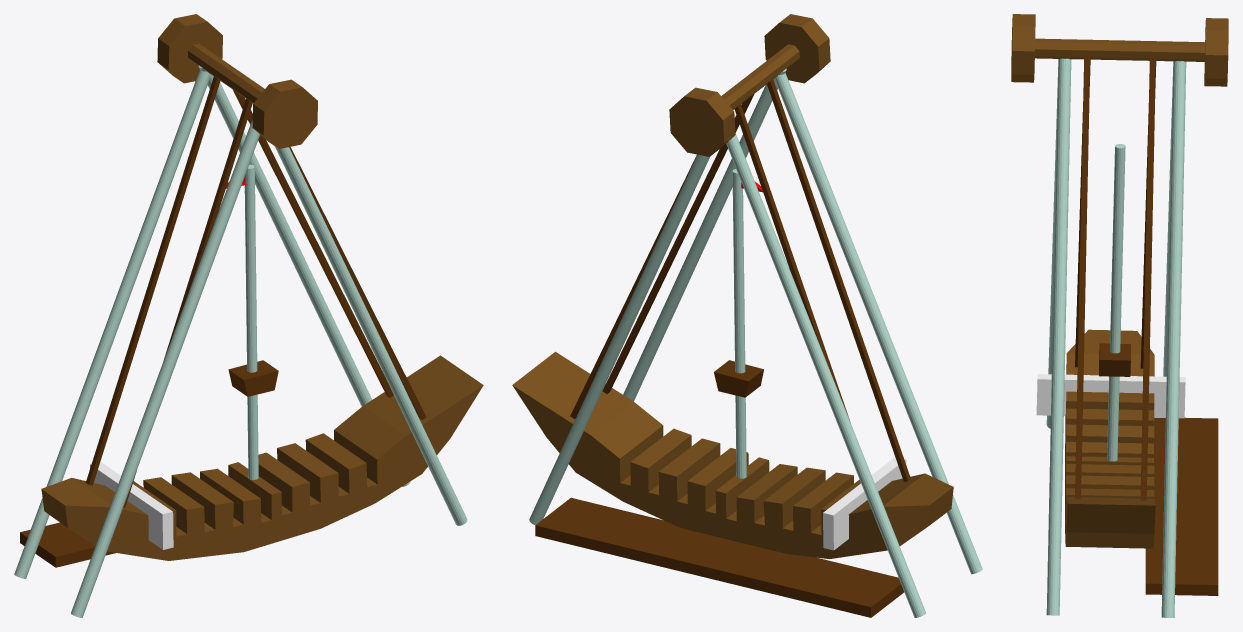
File: pirate_ship.glb
3 views of the same model, side by side, from view 1: azimuth 30°, elevation 25°; view 2: azimuth 150°, elevation 25°; view 3: azimuth 270°, elevation 25° (orthographic).
Parts seen in each view (by area): view 1: Boat_13, Bolt_15, Legs_2_4, Legs_1_2, Legs_4_5, LadderOpposite_9, Legs_3_3, Ladder_8, Flagpole_14, Seat_Divider_10, LoadStation_6, Post_11; view 2: Boat_13, LoadStation_6, Bolt_15, Legs_1_2, Legs_2_4, LadderOpposite_9, Legs_3_3, Legs_4_5, Ladder_8, Flagpole_14, Seat_Divider_10, Post_11; view 3: Boat_13, LoadStation_6, Legs_4_5, Legs_3_3, Bolt_15, Ladder_8, Flagpole_14, Seat_Divider_10, LadderOpposite_9, Post_11, Legs_2_4, Legs_1_2.
Part boxes in pixels (<box>): Boat_13: <box>41,355,483,560</box>; Bolt_15: <box>157,14,317,148</box>; Legs_2_4: <box>71,119,259,617</box>; Legs_1_2: <box>14,70,209,578</box>; Legs_4_5: <box>275,146,467,525</box>; LadderOpposite_9: <box>85,76,252,507</box>; Legs_3_3: <box>198,65,410,486</box>; Ladder_8: <box>233,90,426,419</box>; Flagpole_14: <box>244,164,258,479</box>; Seat_Divider_10: <box>90,462,173,549</box>; LoadStation_6: <box>20,522,115,567</box>; Post_11: <box>228,360,278,396</box>; Boat_13: <box>512,351,953,559</box>; LoadStation_6: <box>535,497,903,617</box>; Bolt_15: <box>669,14,830,156</box>; Legs_1_2: <box>726,133,925,617</box>; Legs_2_4: <box>775,73,982,574</box>; LadderOpposite_9: <box>734,79,910,481</box>; Legs_3_3: <box>529,154,710,524</box>; Legs_4_5: <box>623,68,786,401</box>; Ladder_8: <box>570,94,754,418</box>; Flagpole_14: <box>732,169,746,478</box>; Seat_Divider_10: <box>823,457,906,550</box>; Post_11: <box>714,360,763,397</box>; Boat_13: <box>1065,329,1155,548</box>; LoadStation_6: <box>1145,417,1218,595</box>; Legs_4_5: <box>1046,58,1071,615</box>; Legs_3_3: <box>1161,61,1186,617</box>; Bolt_15: <box>1011,14,1228,86</box>; Ladder_8: <box>1075,54,1155,500</box>; Flagpole_14: <box>1107,144,1125,461</box>; Seat_Divider_10: <box>1036,374,1185,418</box>; LadderOpposite_9: <box>1075,60,1156,368</box>; Post_11: <box>1099,343,1130,376</box>; Legs_2_4: <box>1046,58,1066,428</box>; Legs_1_2: <box>1163,60,1181,376</box>.
Bounding box in the file's own units: 13.7 × 15.56 × 6.06.
